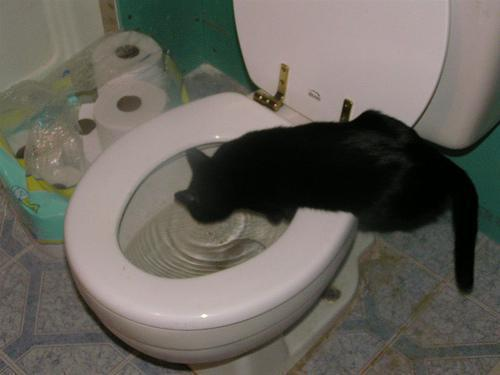Otro Obstaculo: (173, 102, 484, 310)
Sanitario: (65, 6, 491, 368)
